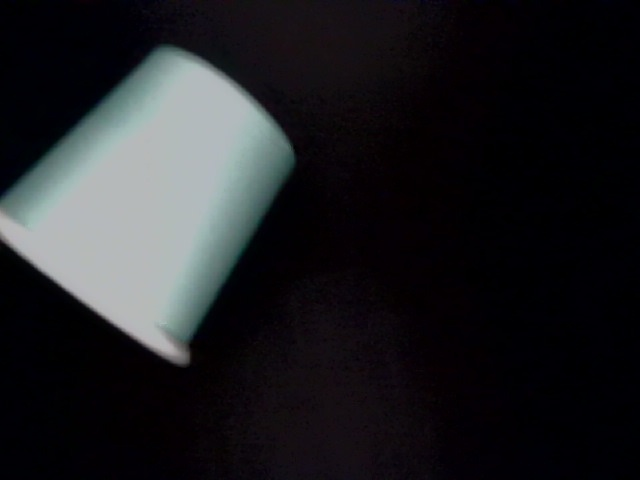KHSLJ: (224, 391, 514, 480)
